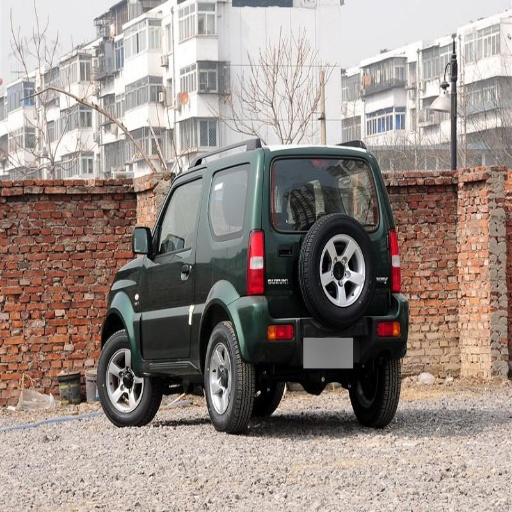trunk: (183, 179, 322, 329)
